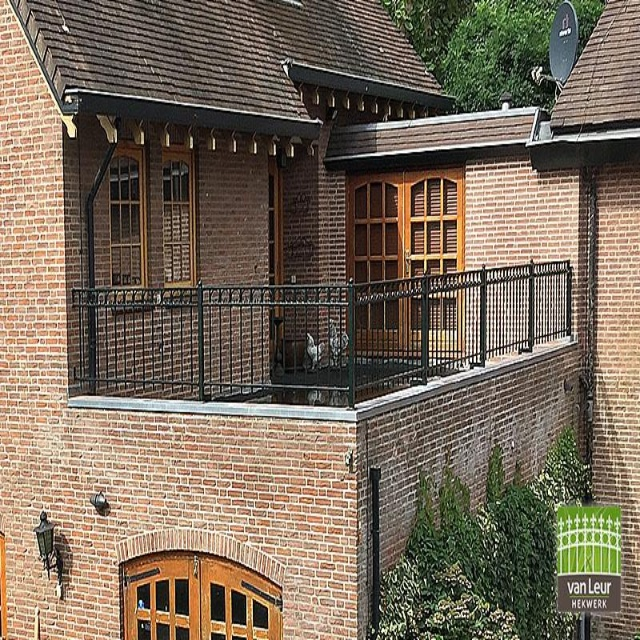obstacle: (91, 85, 584, 578)
